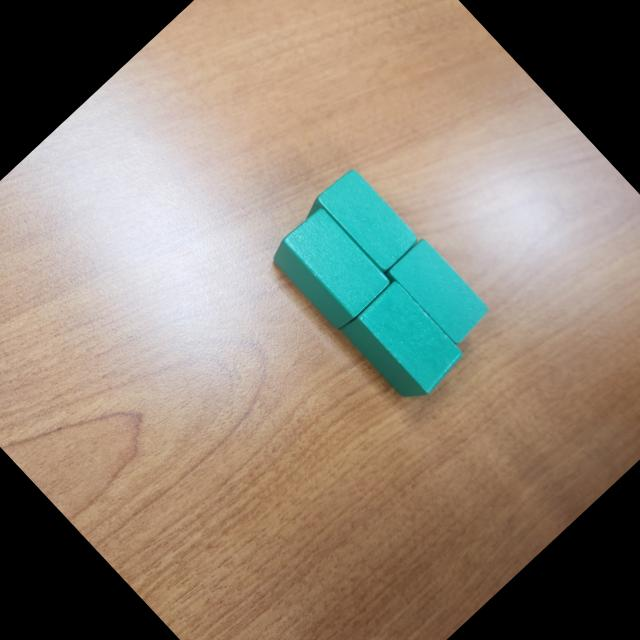green: (338, 277, 472, 413), (264, 202, 394, 334), (298, 163, 422, 289), (384, 235, 494, 348)
